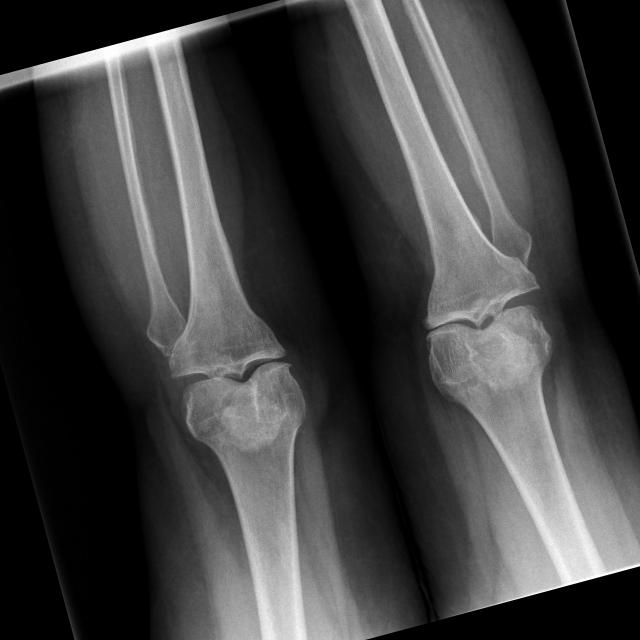Knee: (158, 304, 314, 448), (404, 244, 559, 387)
